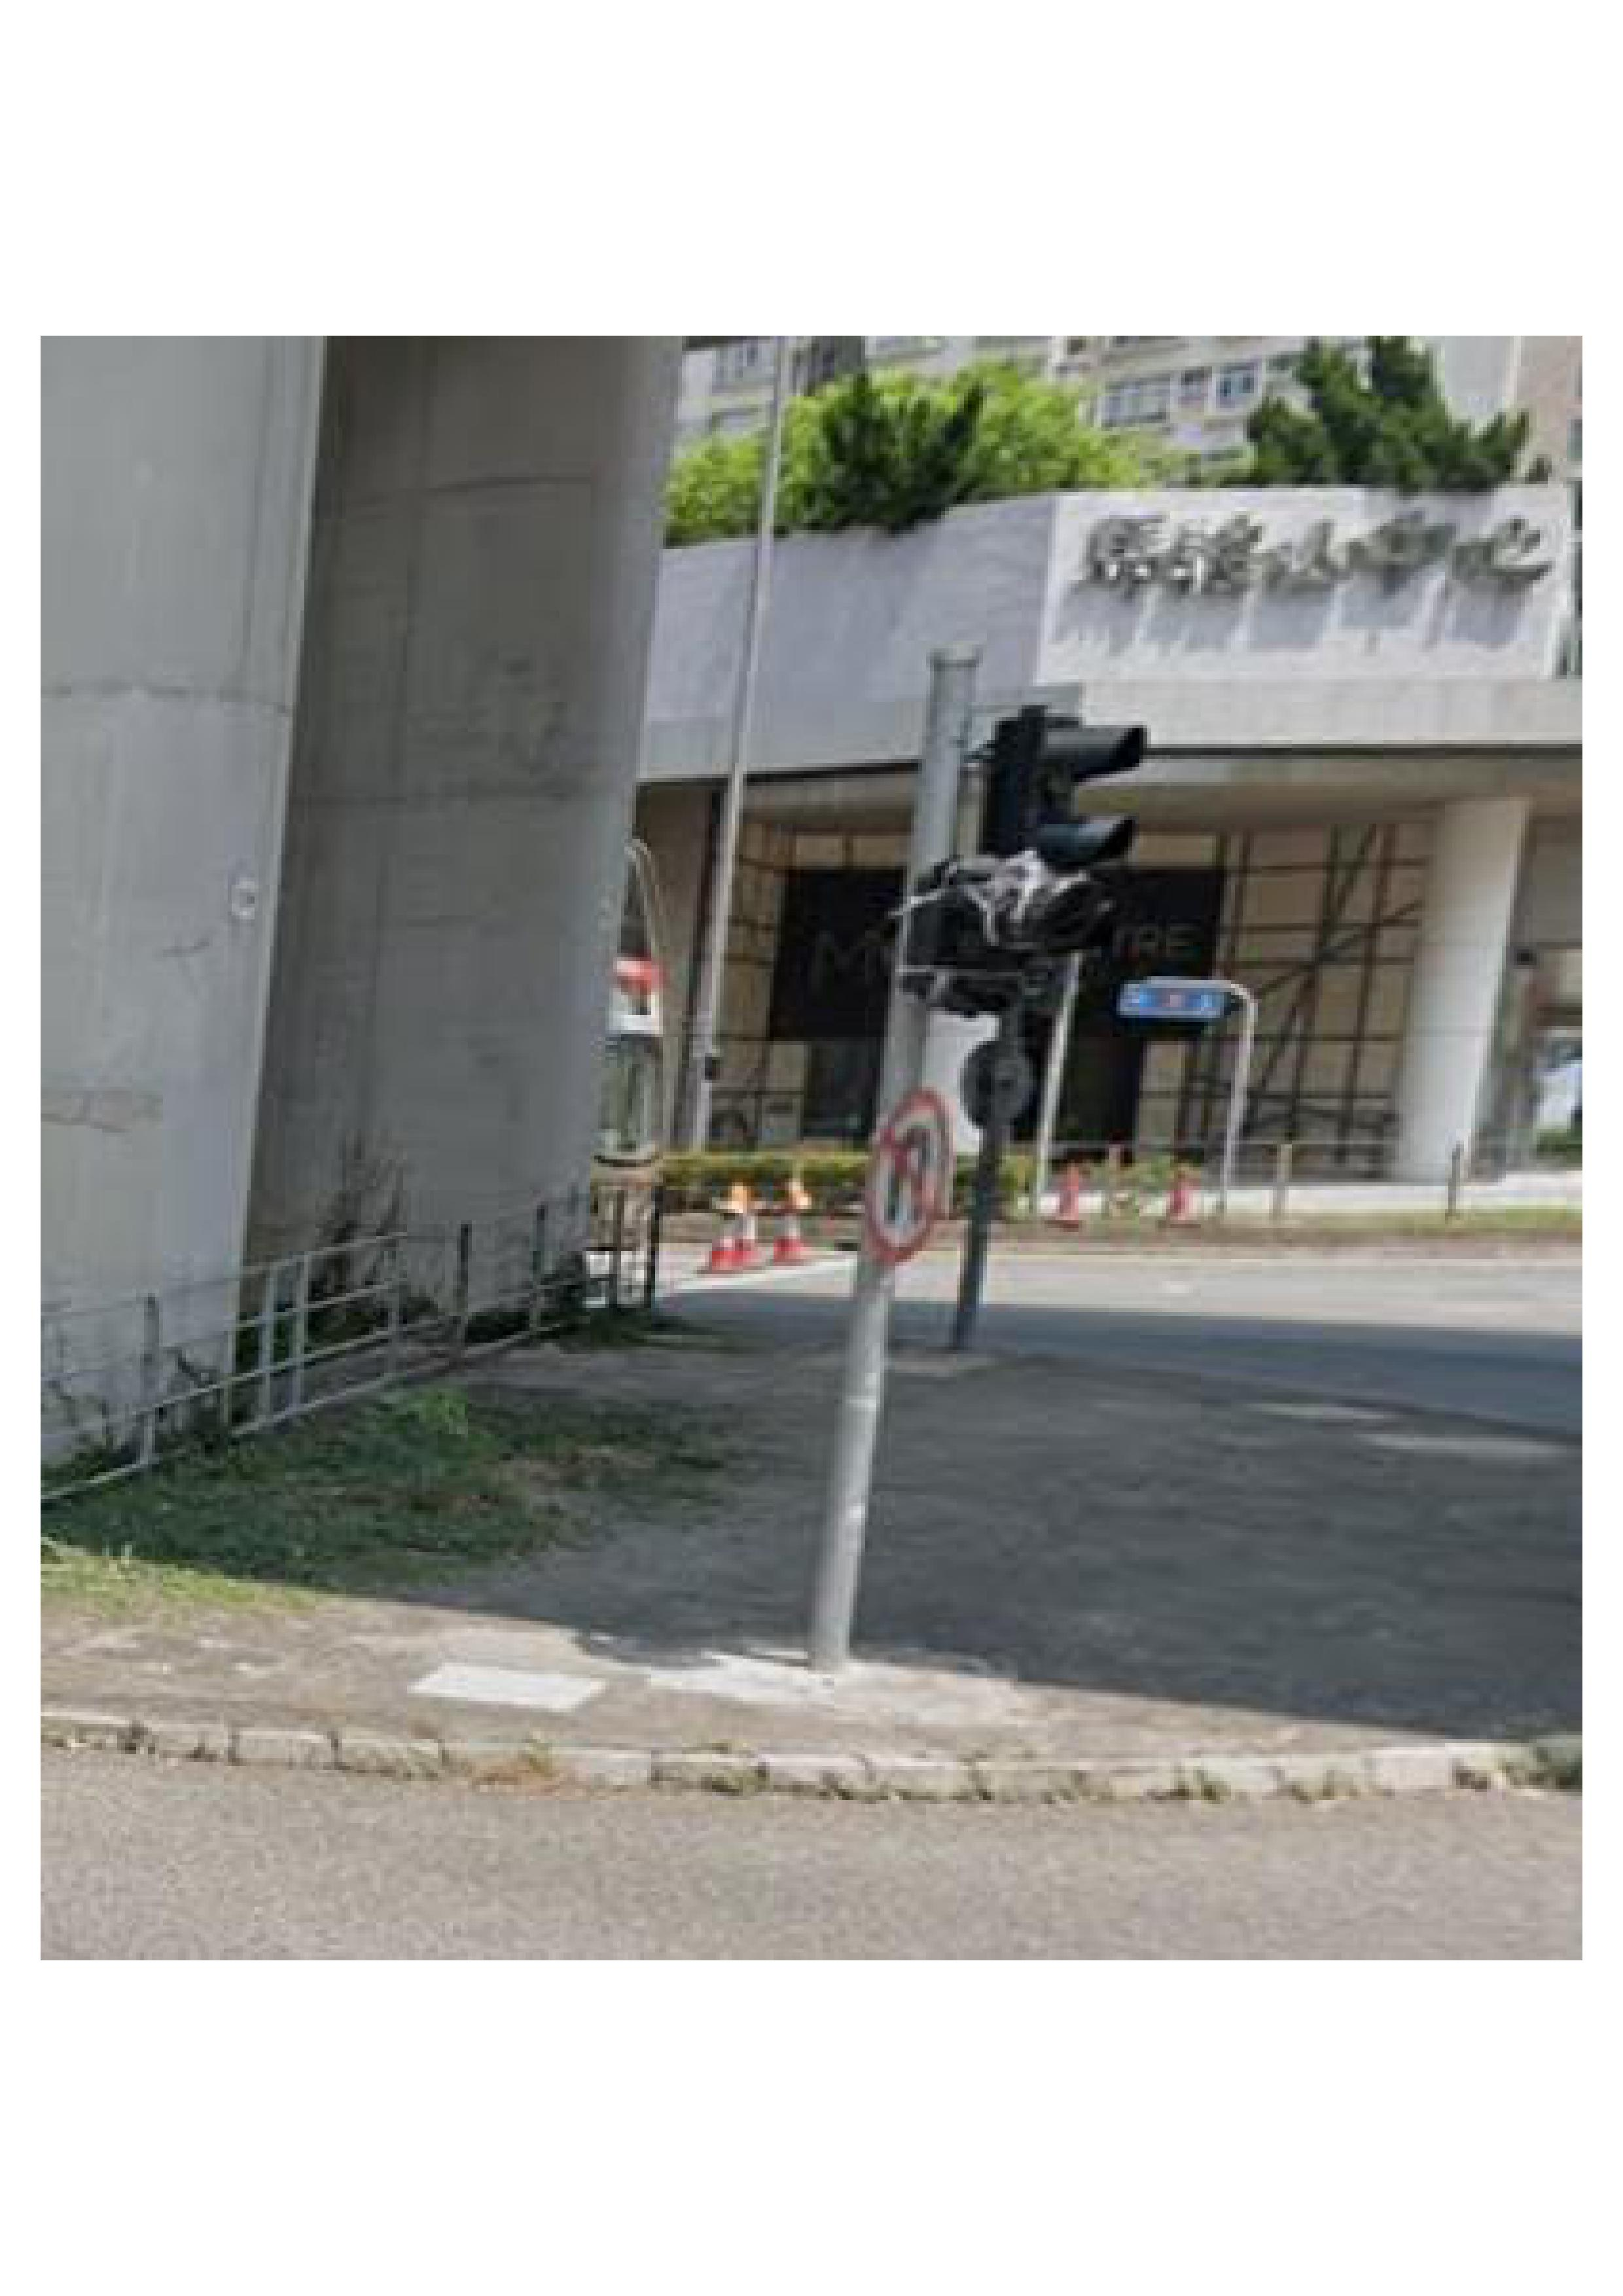No Uturn: (854, 1090, 950, 1252)
